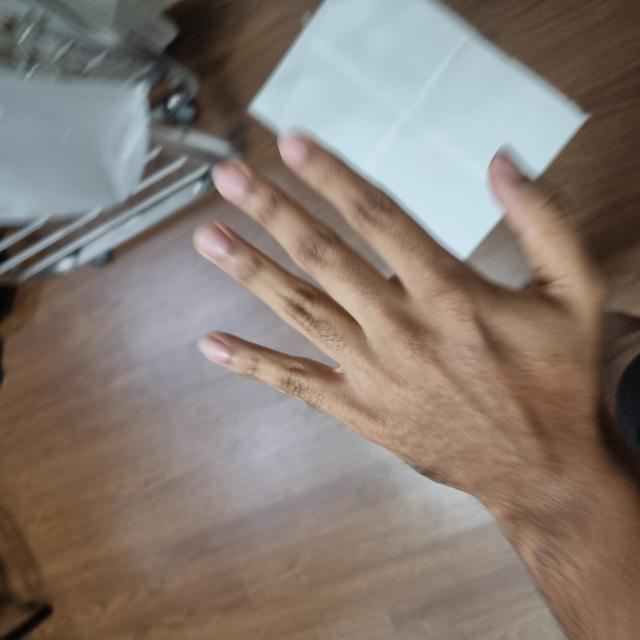Paper: (135, 195, 505, 602)
